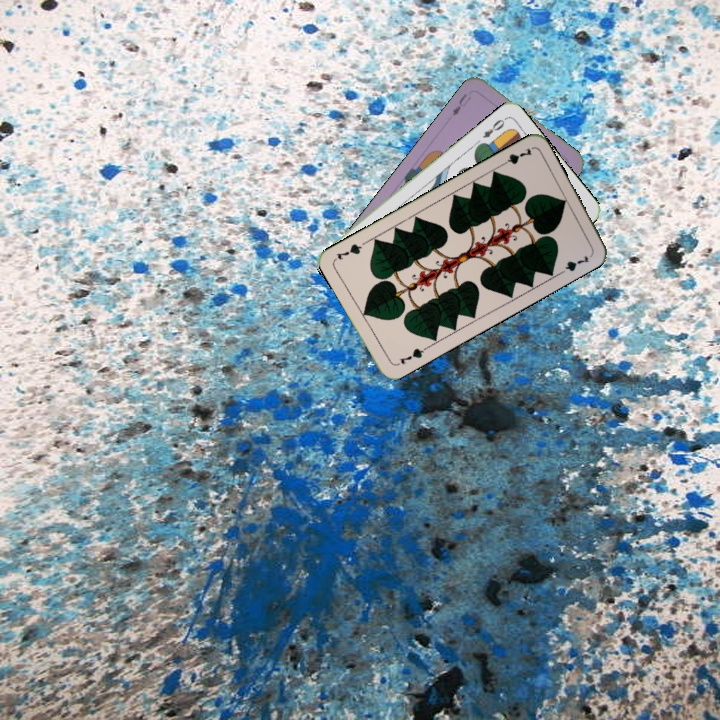EO: (479, 113, 509, 141)
EU: (448, 90, 474, 118)
G7: (496, 144, 535, 169), (395, 343, 429, 367)
